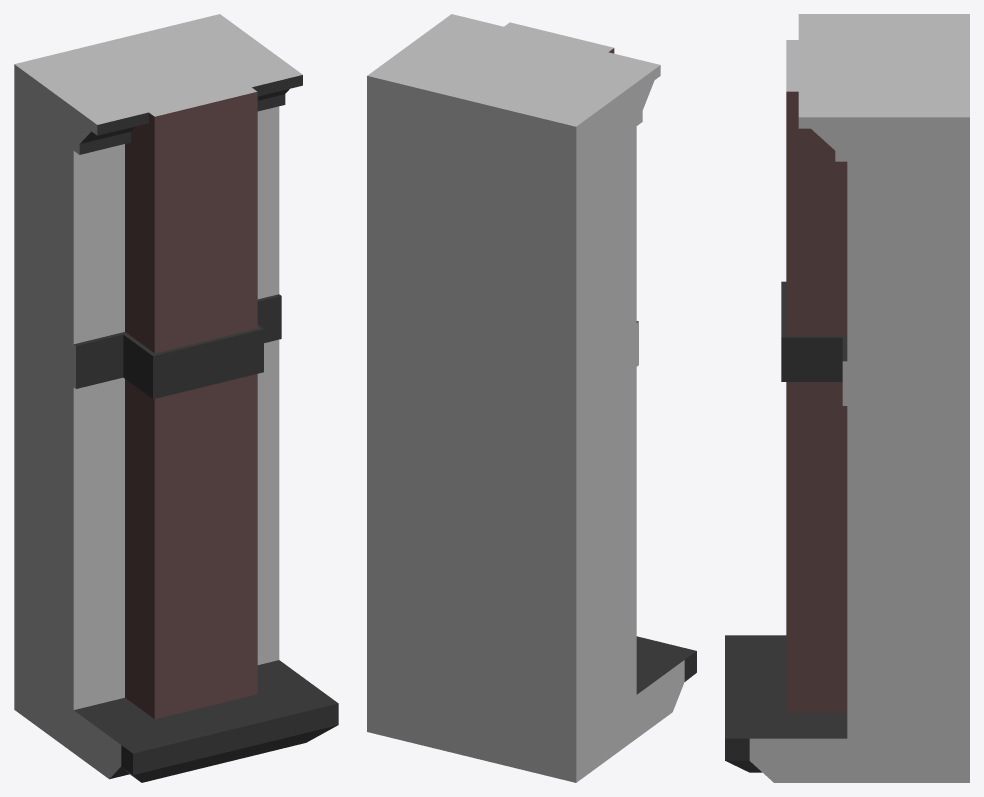
The model's file is WindowsPillar1.fbx.
3 renders of one model, left to right at view 1: azimuth 30°, elevation 25°; view 2: azimuth 150°, elevation 25°; view 3: azimuth 270°, elevation 25°, orthographic. The views are drawn at different scales.
Parts seen in each view (by area): view 1: Tile5; view 2: Tile5; view 3: Tile5.
Part boxes in pixels (x1,y1,x2,y2): Tile5: [14, 14, 338, 782]; Tile5: [367, 14, 696, 782]; Tile5: [725, 14, 969, 782].
Bounding box in the file's own units: 1 × 3 × 1.
